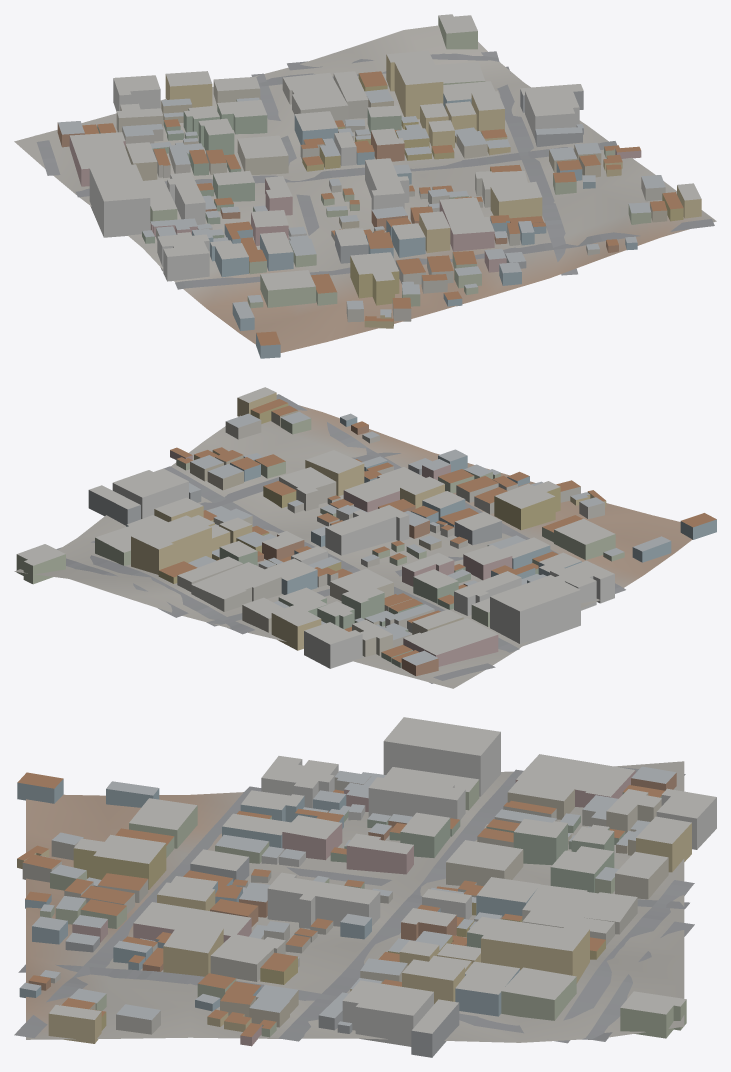
3 views of the same model, one above another, from view 1: azimuth 30°, elevation 25°; view 2: azimuth 150°, elevation 25°; view 3: azimuth 270°, elevation 25° (orthographic). The views are drawn at different scales.
Parts seen in each view (by area): view 1: Lo; view 2: Lo; view 3: Lo.
Boxes of the visible parts, left/top/right/bottom form: Lo: left=14, top=14, right=716, bottom=358; Lo: left=14, top=387, right=716, bottom=688; Lo: left=14, top=717, right=716, bottom=1057.
Bounding box in the file's own units: 280 × 32.73 × 273.
